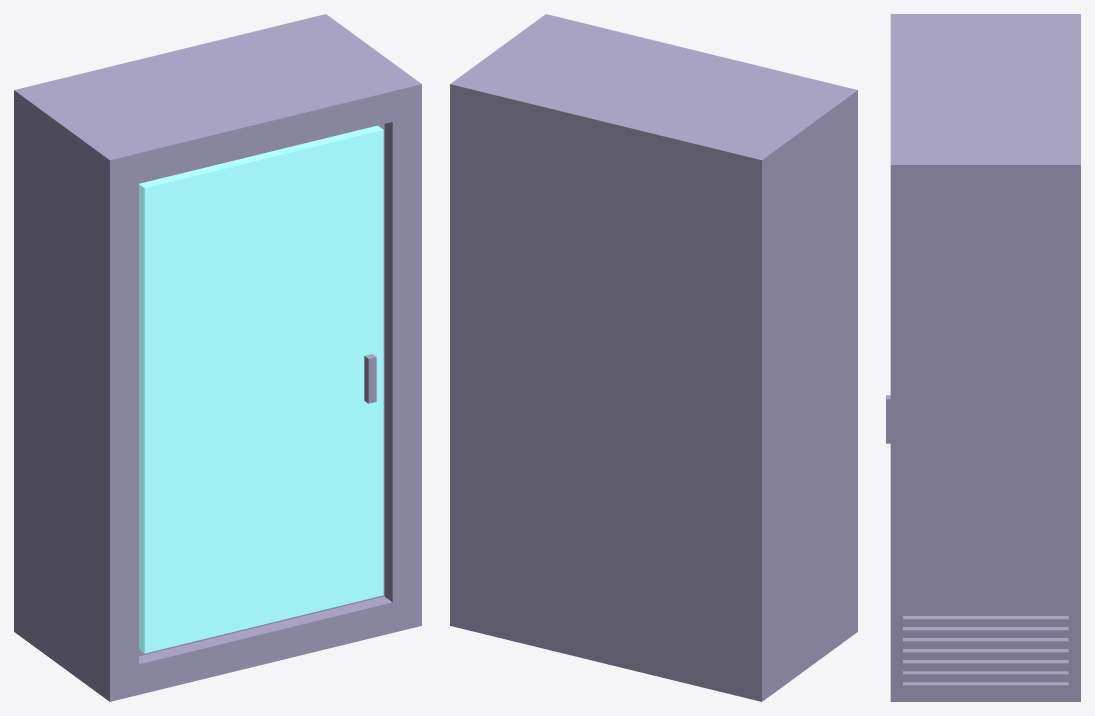
File: Kühlschrank.fbx
The picture shows the model from 3 angles, left to right: view 1: azimuth 30°, elevation 25°; view 2: azimuth 150°, elevation 25°; view 3: azimuth 270°, elevation 25°; orthographic projection.
Parts seen in each view (by area): view 1: Cube.001; view 2: Cube.001; view 3: Cube.001.
Part boxes in pixels (bbox=[...]): Cube.001: bbox=[14, 14, 421, 701]; Cube.001: bbox=[450, 14, 857, 701]; Cube.001: bbox=[886, 14, 1080, 701].
Bounding box in the file's own units: 9.28 × 15.4 × 5.06.
